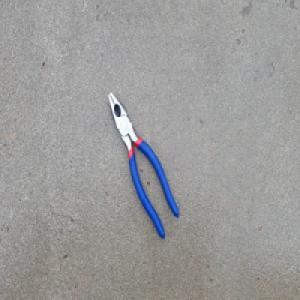Pliers: (107, 90, 179, 240)
